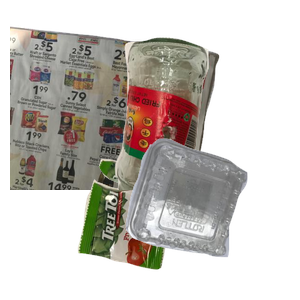glass: (112, 35, 300, 215)
paper: (10, 21, 222, 201)
plastic: (123, 136, 300, 300)
trash: (75, 156, 244, 300)
